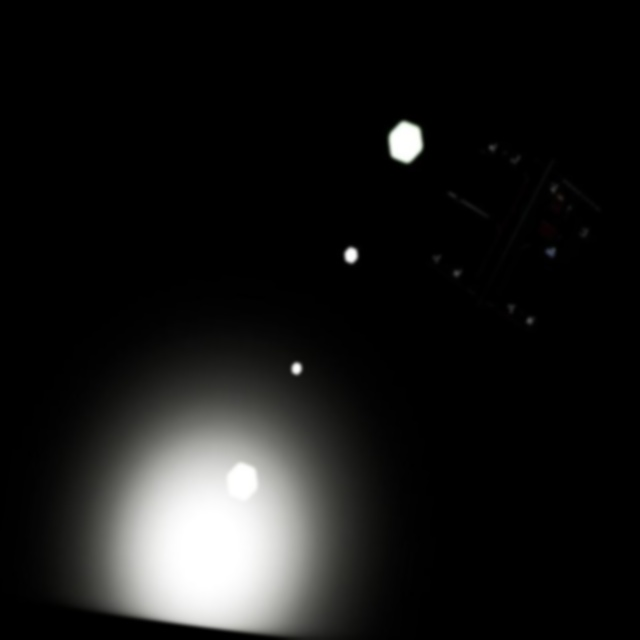medium_debris: (406, 125, 623, 351)
